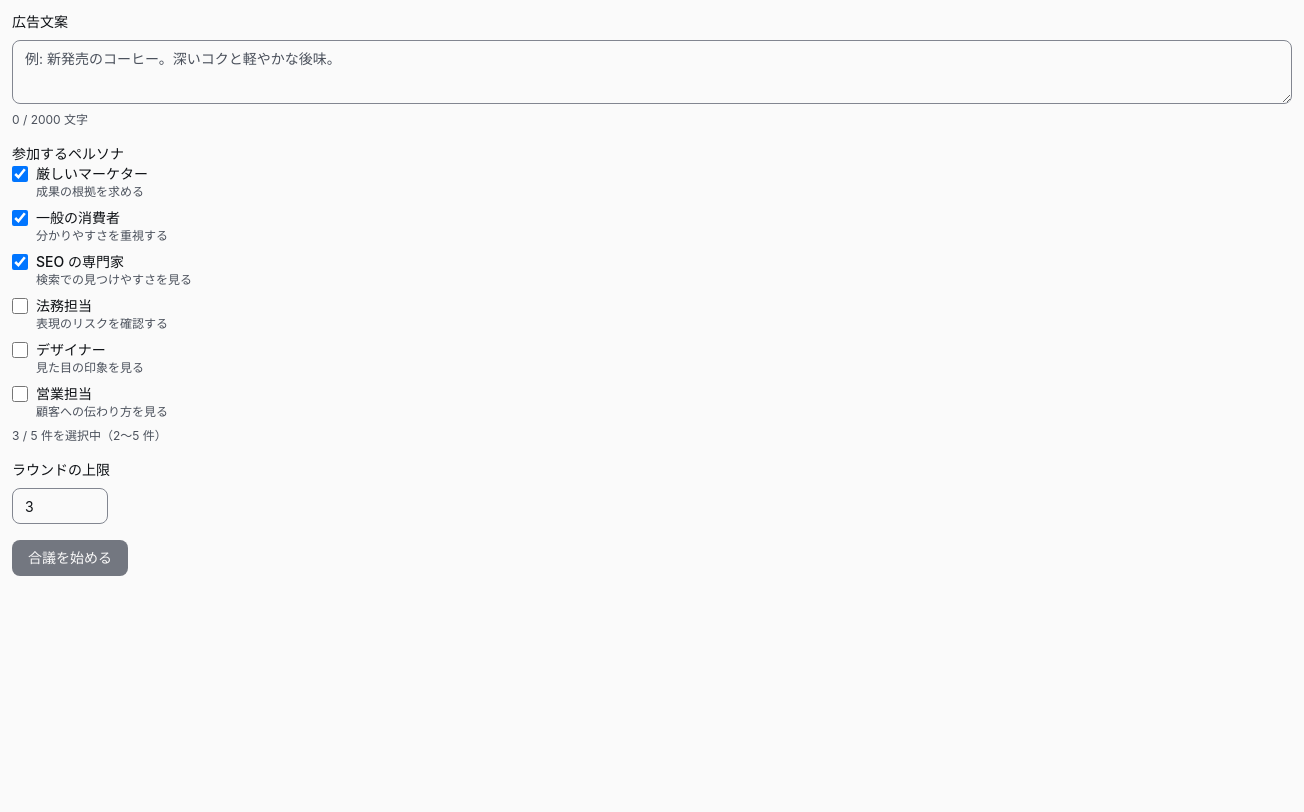
Scenario: persona selection › stops offering more at 5 and frees them when one is removed
The width and height of the screenshot is (1304, 812).
Click the checkbox labelled "法務担当": (20, 306) [12,298,28,314]
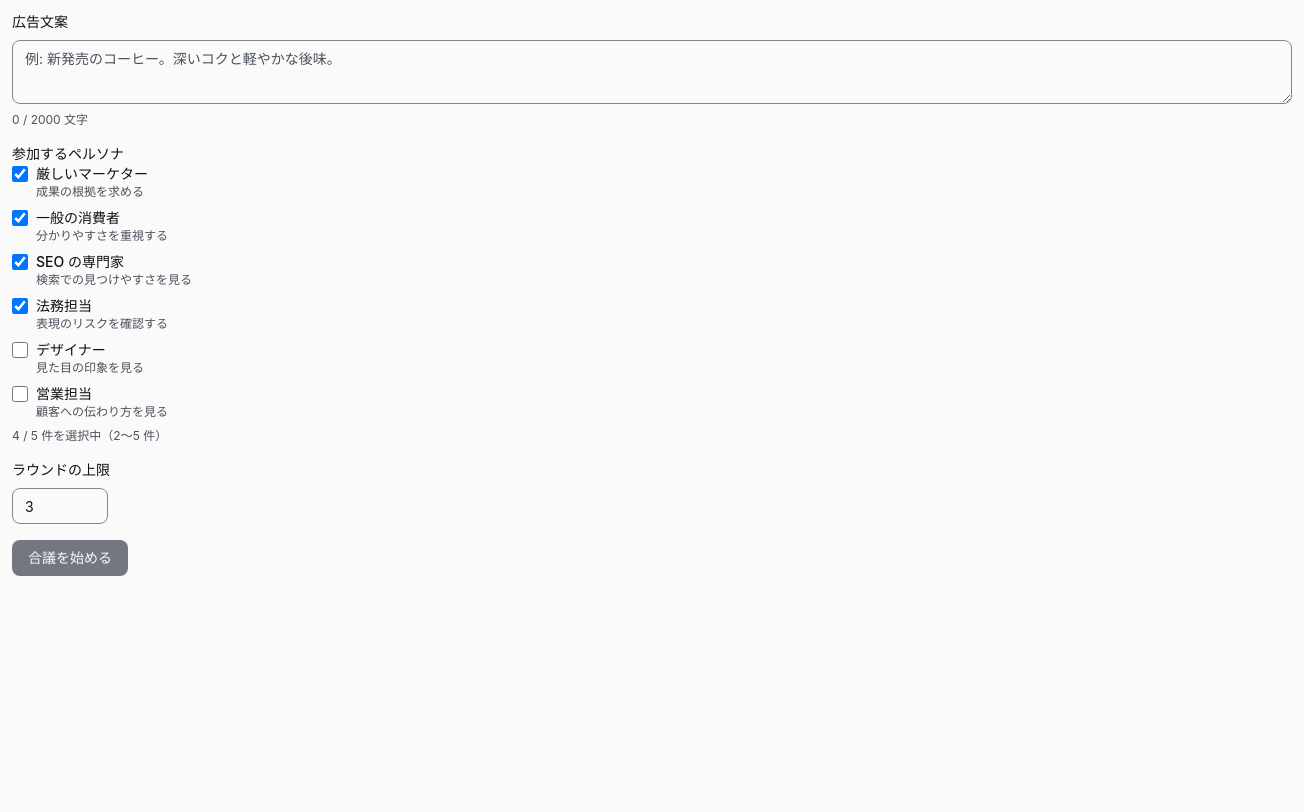
Click the checkbox labelled "デザイナー": (20, 350) [12,342,28,358]
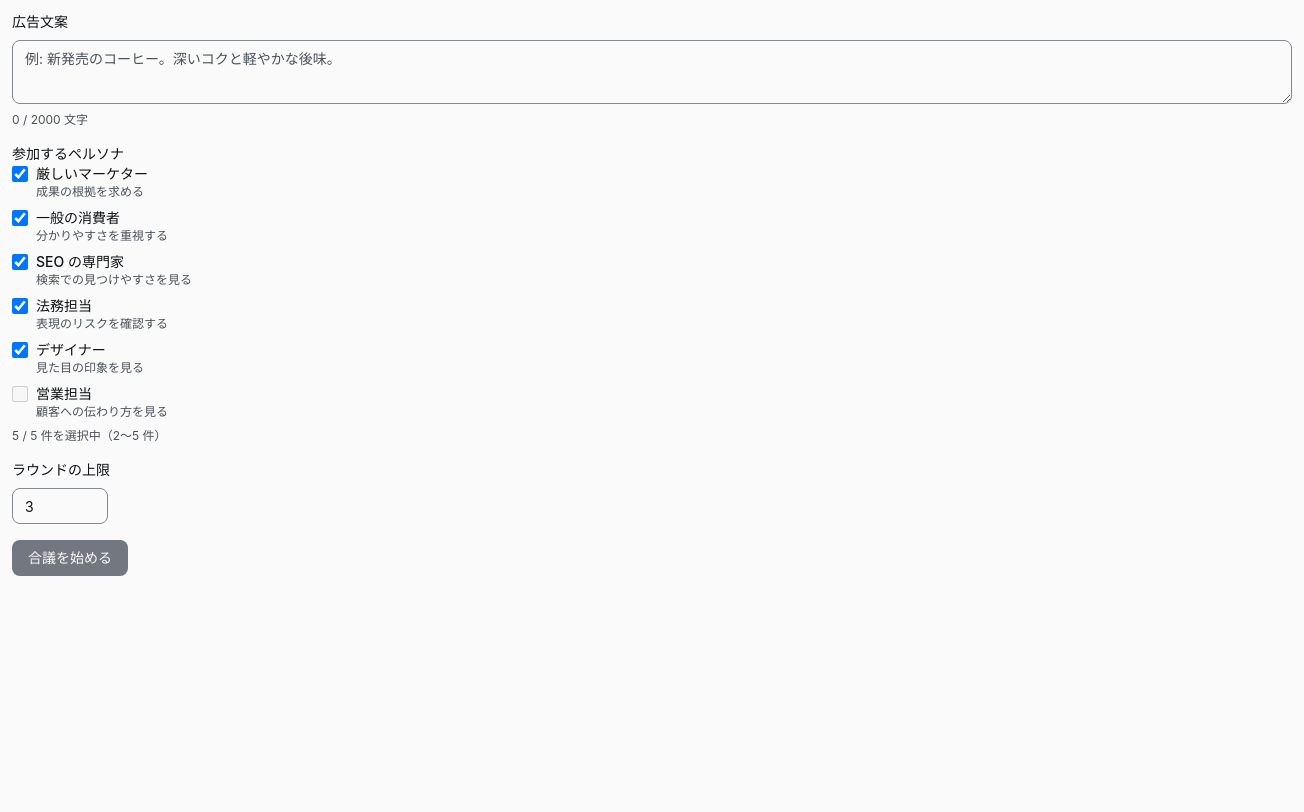
Expected: the text "5 / 5 件を選択中（2〜5 件）" is shown, [12,428,166,443]
Expected: the checkbox labelled "営業担当" is disabled, [12,386,28,402]
Click the checkbox labelled "法務担当": (20, 306) [12,298,28,314]
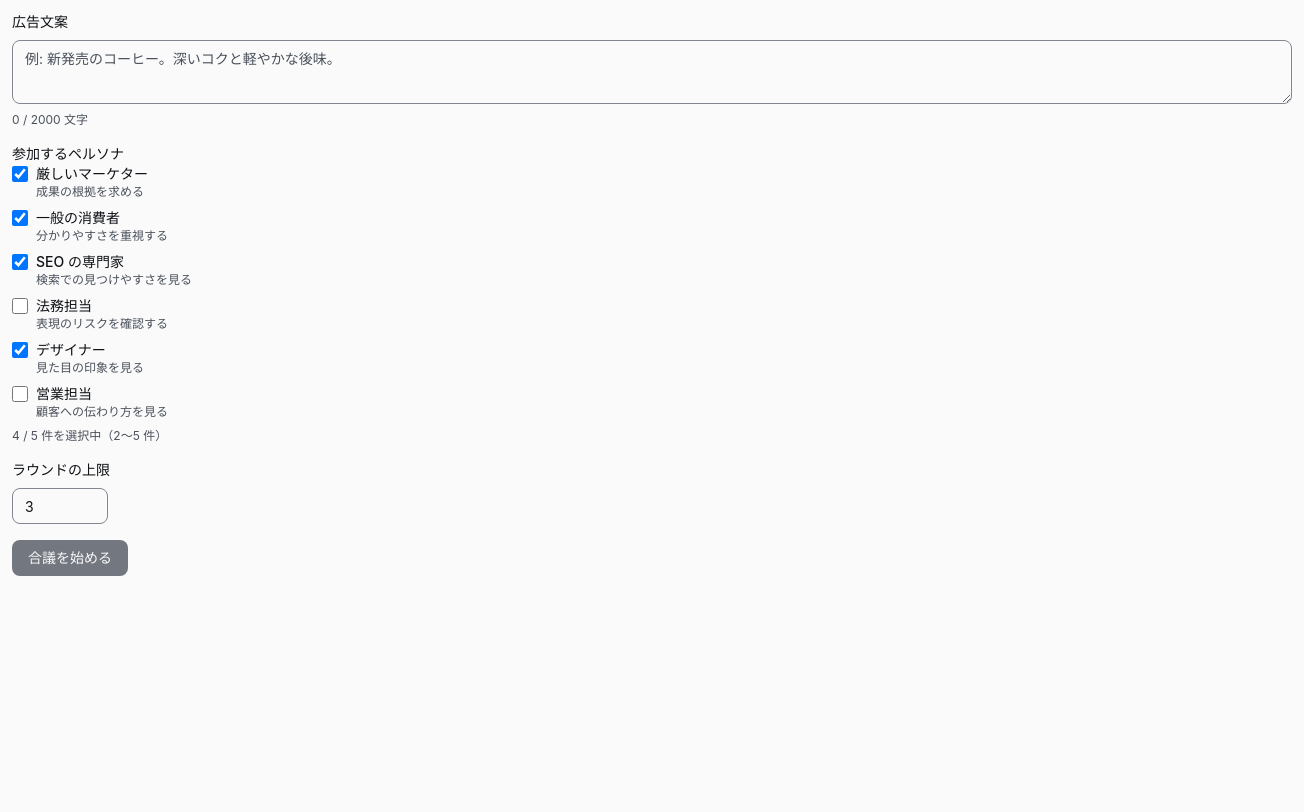
Expected: the checkbox labelled "営業担当" is enabled, [12,386,28,402]
